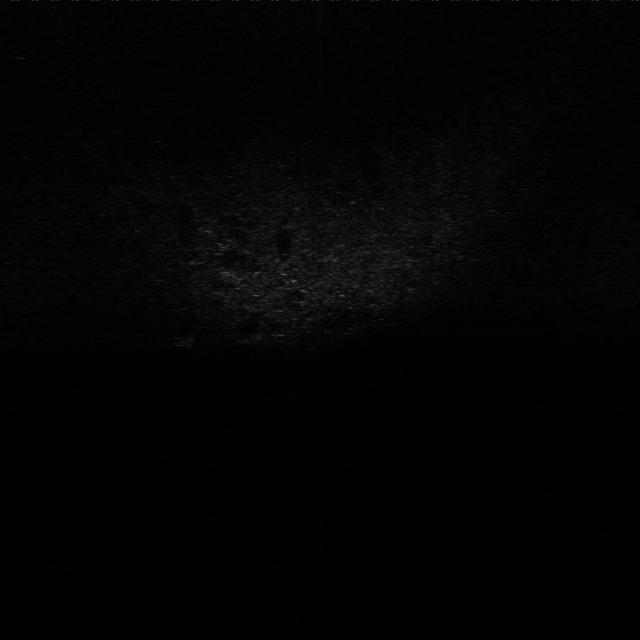cube: (170, 329, 200, 350)
